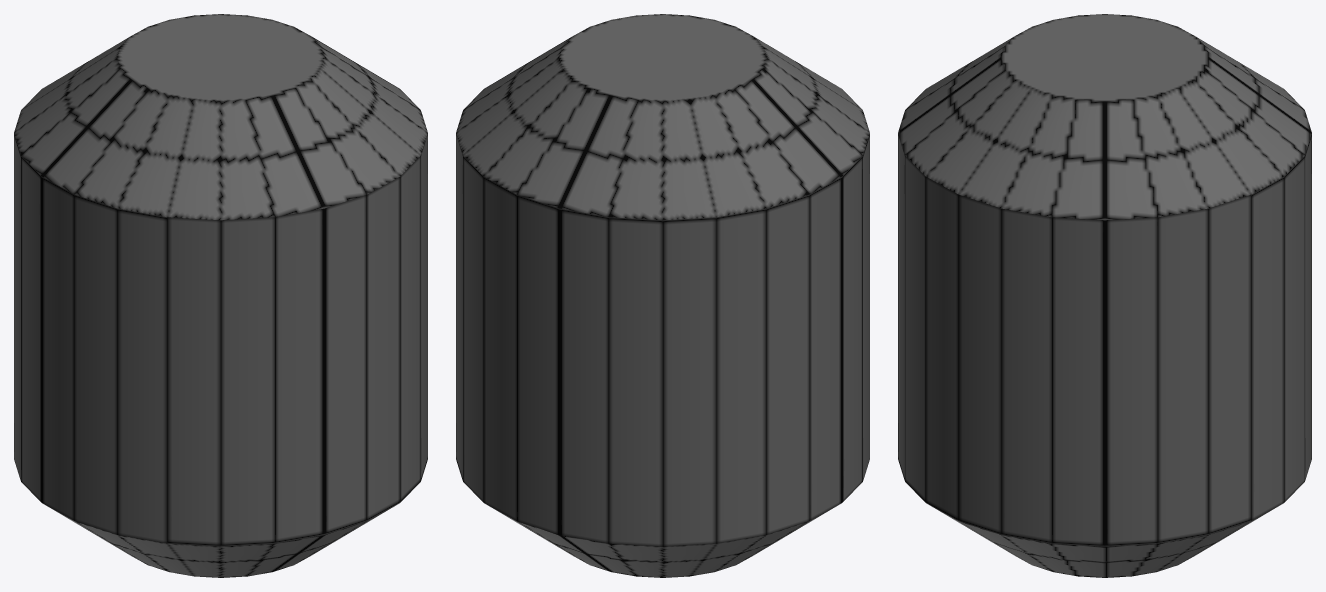
The model's file is Tantares_Orbital_2_Interior.obj.
3 views of the same model, side by side, from view 1: azimuth 30°, elevation 25°; view 2: azimuth 150°, elevation 25°; view 3: azimuth 270°, elevation 25° (orthographic).
Visible parts, largest first — view 1: Tantares_Orbital_2_Interior; view 2: Tantares_Orbital_2_Interior; view 3: Tantares_Orbital_2_Interior.
Boxes of the visible parts, left/top/right/bottom form: Tantares_Orbital_2_Interior: left=14, top=14, right=427, bottom=577; Tantares_Orbital_2_Interior: left=456, top=14, right=869, bottom=577; Tantares_Orbital_2_Interior: left=898, top=14, right=1311, bottom=577.
Bounding box in the file's own units: 1.25 × 1.59 × 1.25.
1 material, 1 textured.
